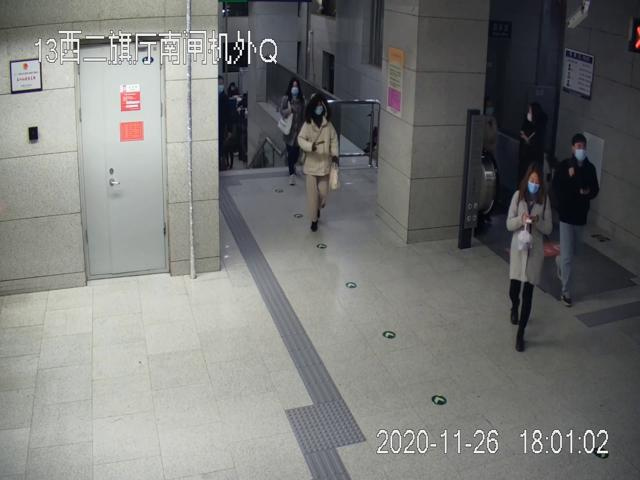person: (506, 163, 553, 349), (549, 132, 599, 305), (296, 92, 342, 232), (277, 77, 305, 188)
